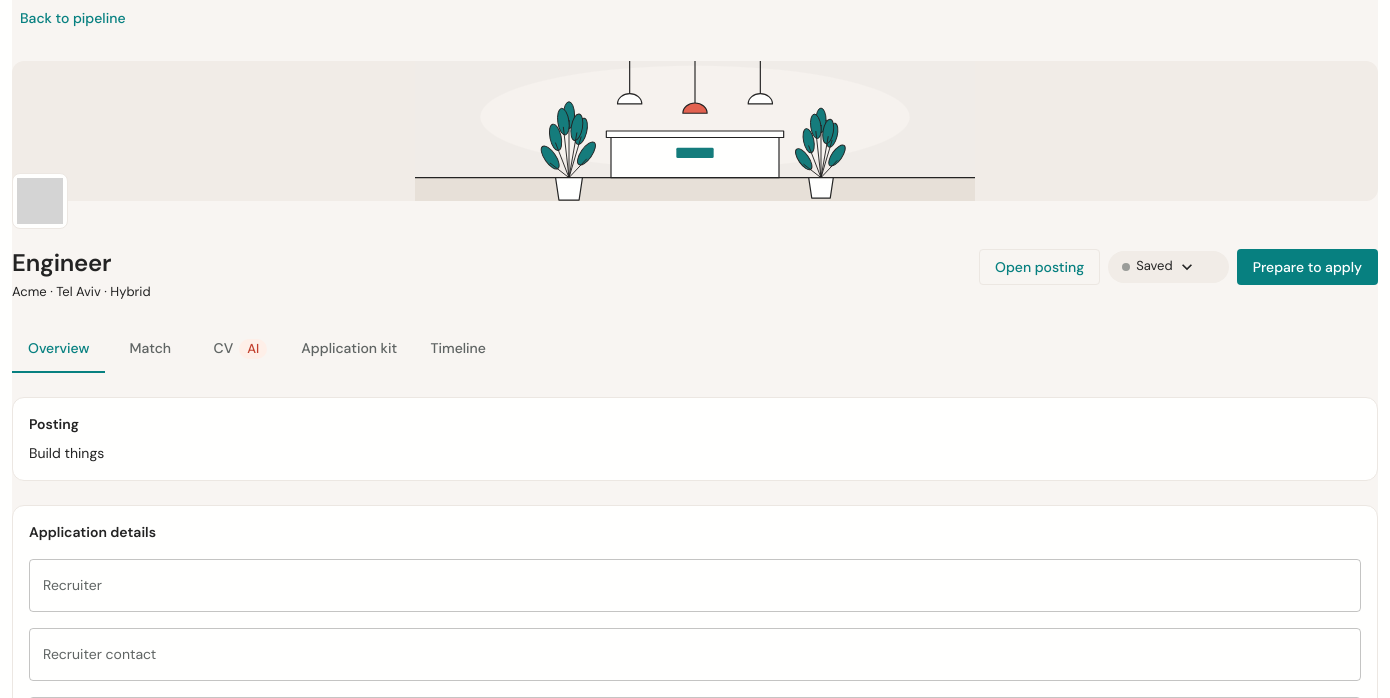
Test: JobPage › should move from preparing an application to marking it applied
The image size is (1390, 698).
Expected: the heading "Engineer" is shown, [12, 246, 111, 278]
Click the button "Prepare to apply".
click(1307, 267)  # box [1237, 248, 1378, 285]
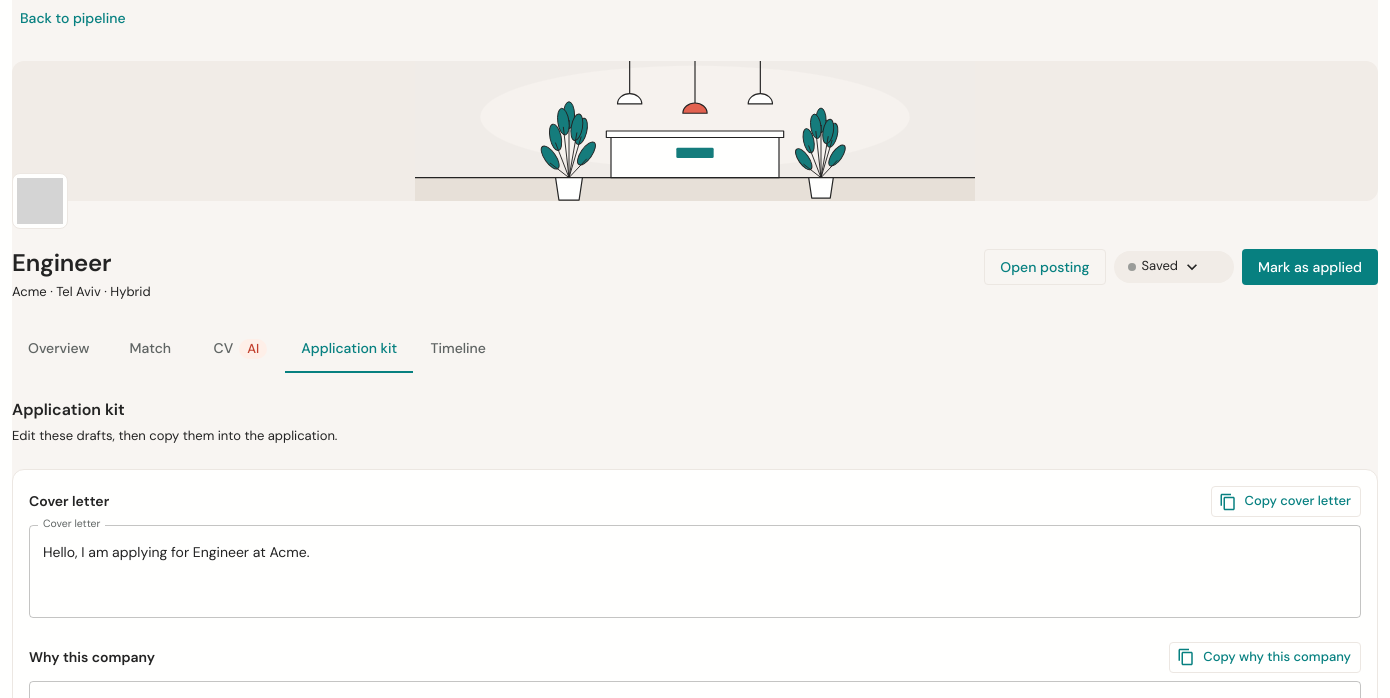
Expected: the text box labelled "Cover letter" holds "Hello, I am applying for Engineer at Acme.", [43, 542, 1347, 602]
Click the button "Mark as applied".
click(1310, 267)  # box [1242, 248, 1378, 285]
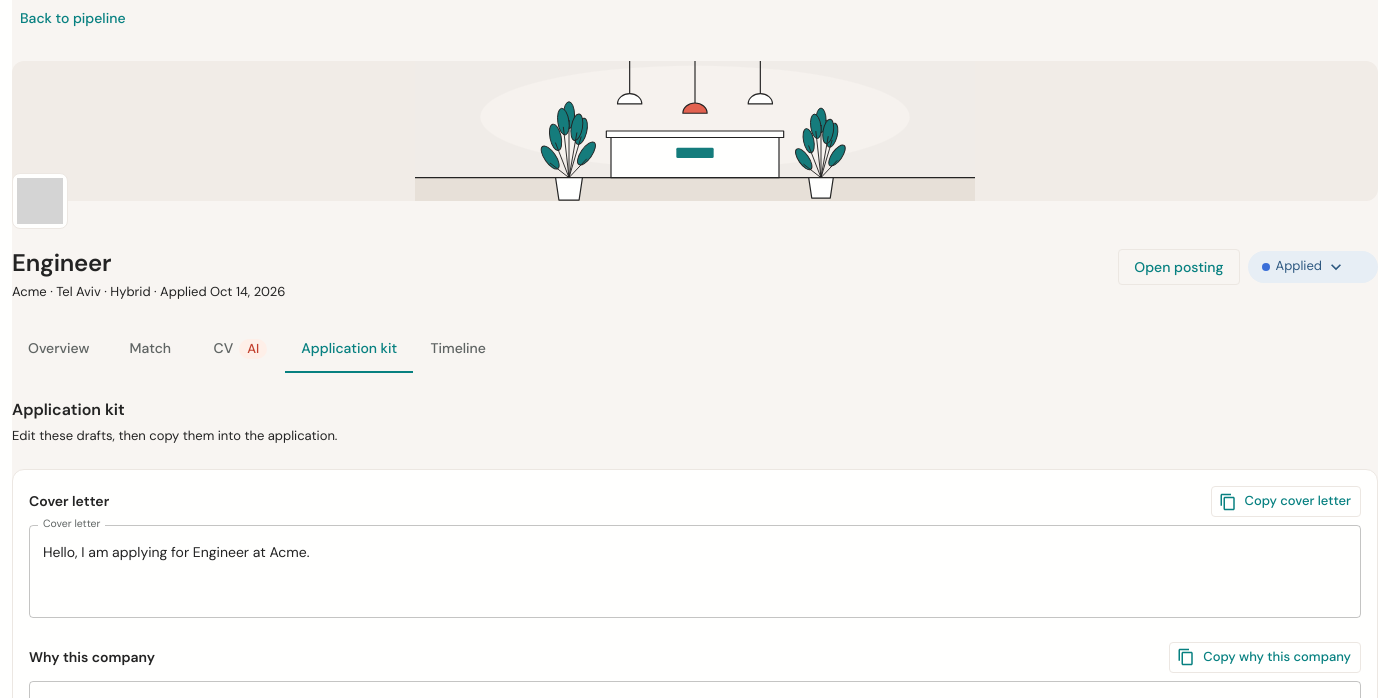
Expected: the element with test id "job-status-chip" reads "Applied", [1276, 257, 1322, 274]
Expected: the button "Mark as applied" is gone
